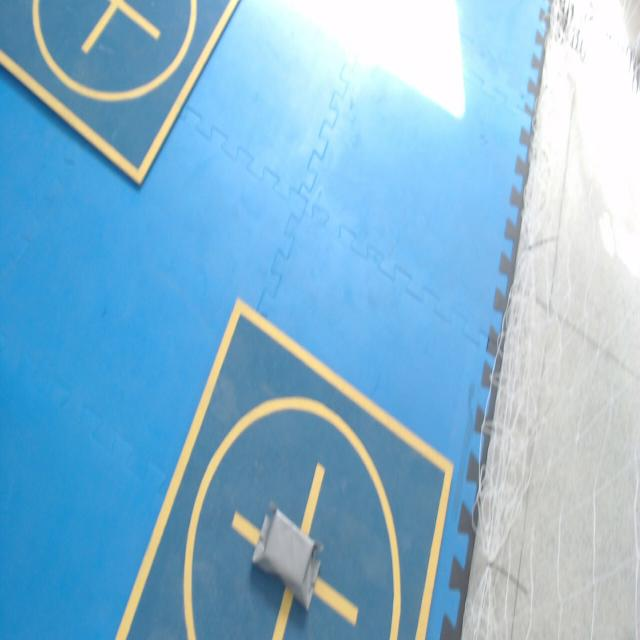esquerda: (252, 503, 321, 609)
